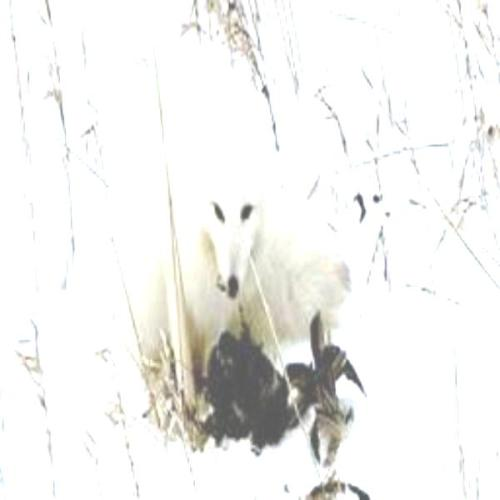arctic_fox-endangered: (192, 160, 281, 317)
